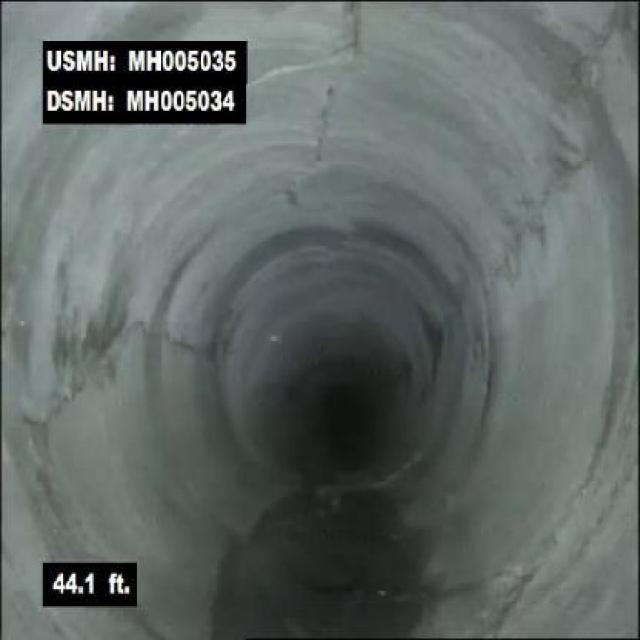Crack: (29, 304, 126, 444), (271, 5, 392, 117), (557, 6, 638, 103)
